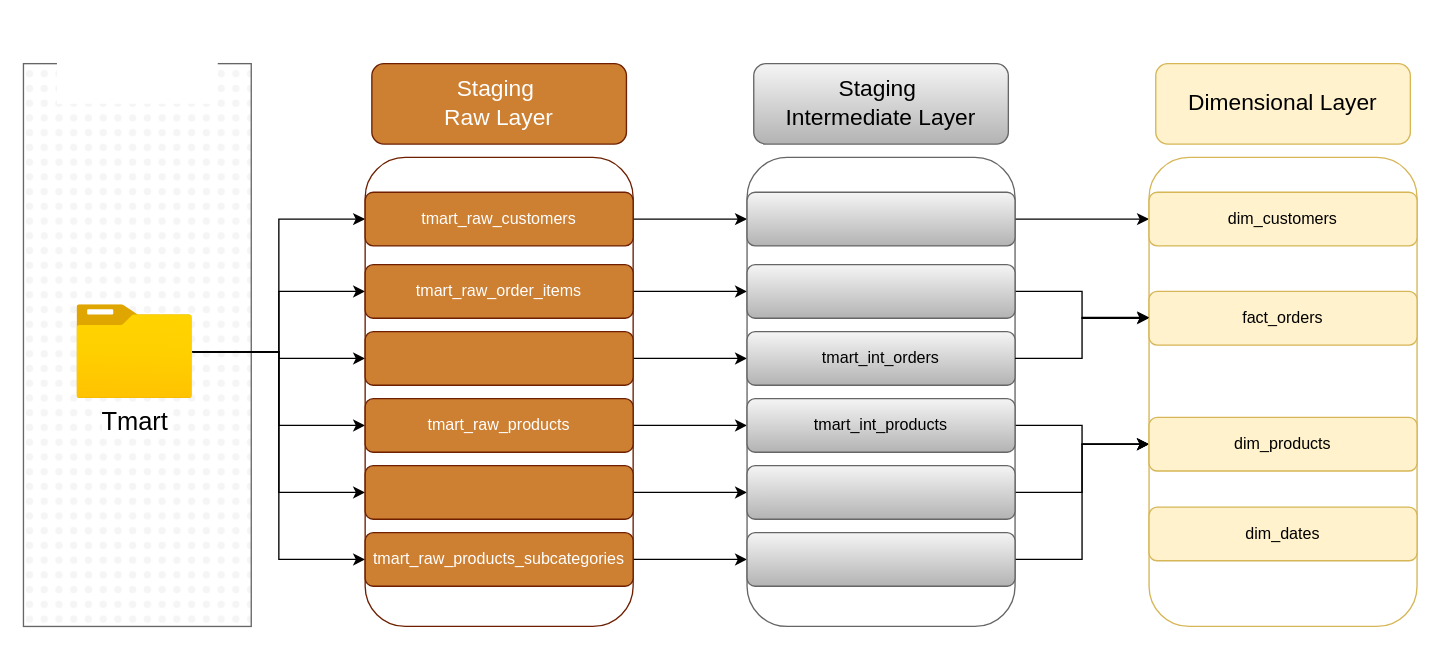
The diagram is 1441 pixels wide and 650 high, and some of its shapes have lost their labels. The shapes that lost their labels are listed below. From the top down, each one's centre as x and y in pixels, then its label:
At [136,63]: "Source(s)".
At [880,218]: "tmart_int_customers".
At [880,290]: "tmart_int_order_items".
At [498,357]: "tmart_raw_orders".
At [498,491]: "tmart_raw_products_categories".
At [880,491]: "tmart_int_products_categories".
At [880,558]: "tmart_int_products_subcategories".
